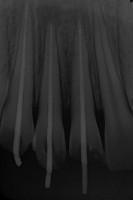Furcation Involvement: (36, 4, 64, 32)
